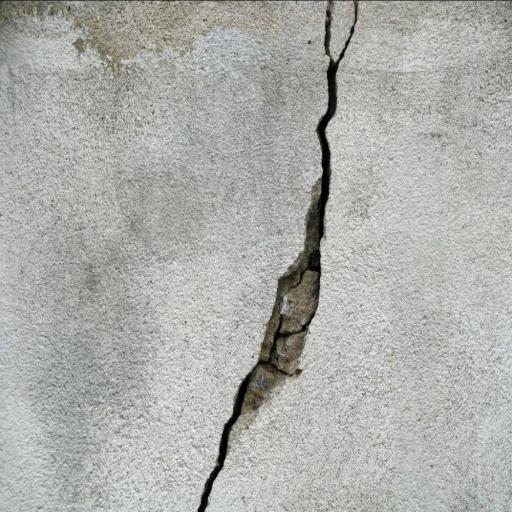spalling: (192, 5, 367, 512)
